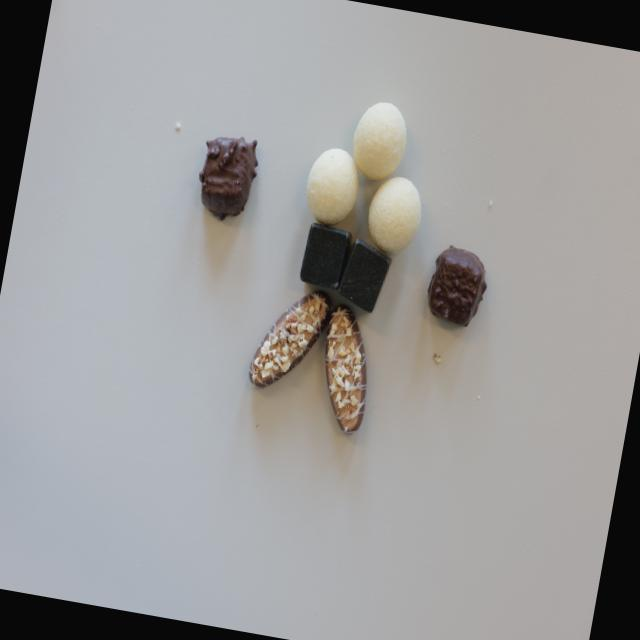Amandina: (244, 278, 330, 397), (305, 305, 378, 435)
Comtesse: (345, 97, 413, 184), (361, 170, 427, 258), (298, 142, 364, 228)
Tentation_noir: (192, 130, 260, 223), (424, 244, 490, 333)
